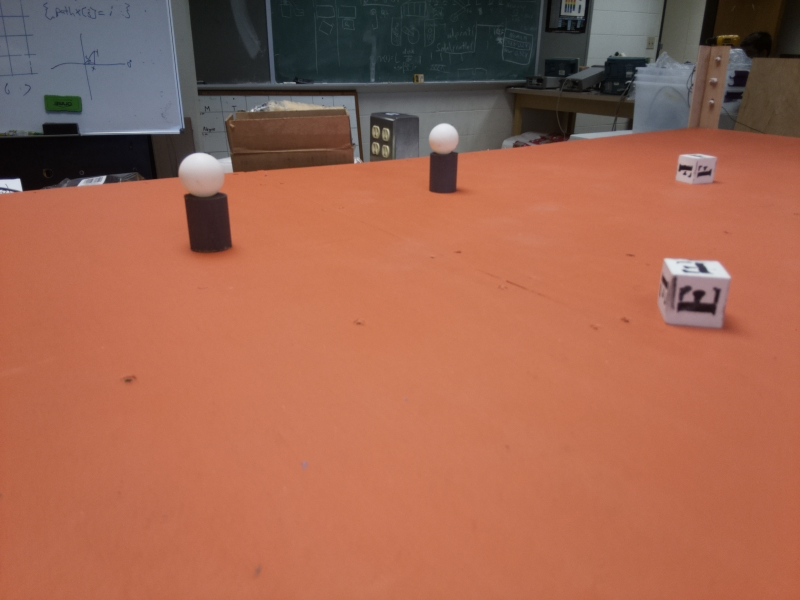blockE: (659, 258, 729, 331)
blockF: (676, 151, 716, 185)
corner: (689, 45, 736, 131)
obstacle: (182, 153, 231, 254), (426, 122, 463, 196)
